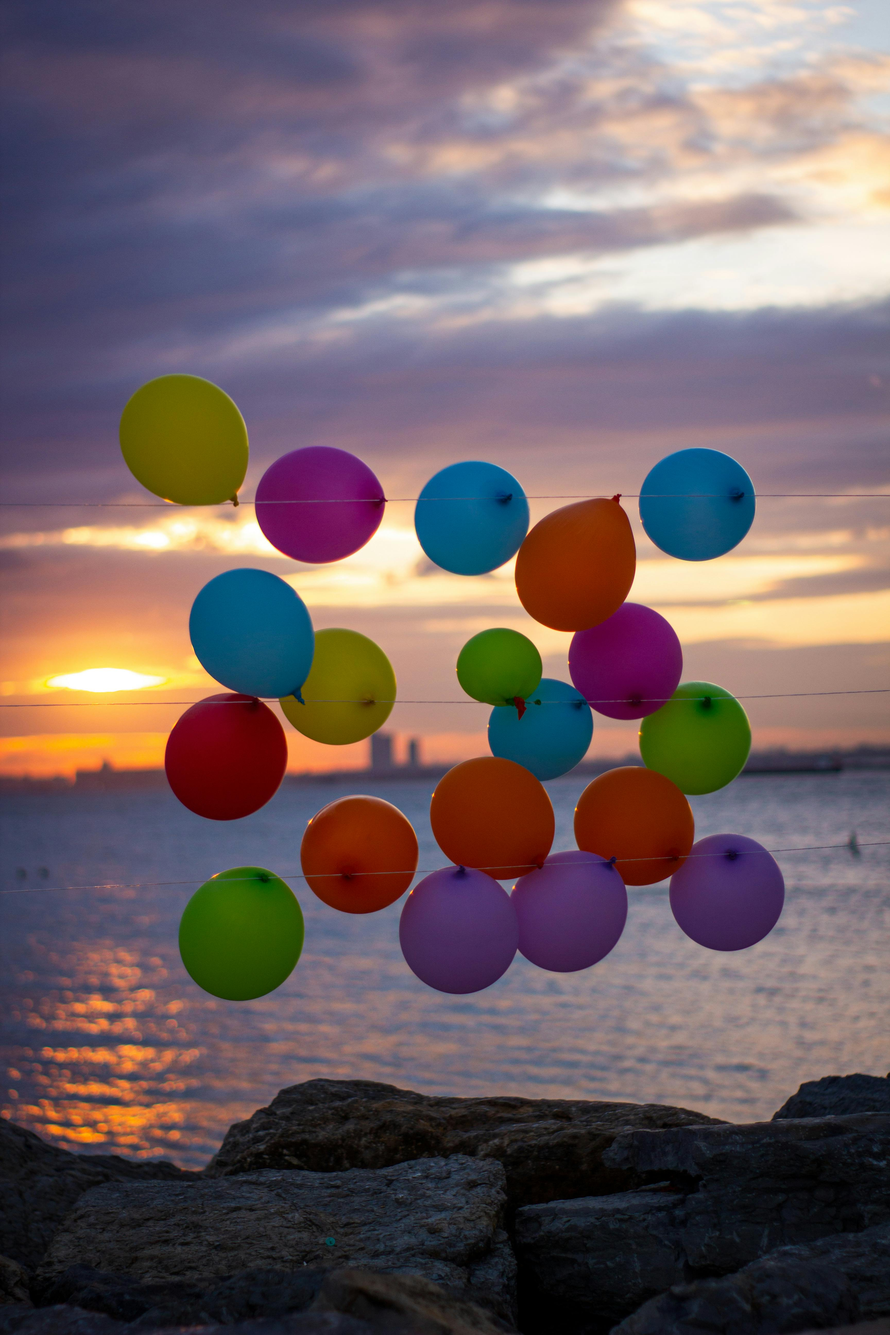balloon: (119, 375, 248, 505), (179, 867, 304, 1001), (515, 496, 636, 632), (189, 569, 314, 699), (402, 867, 520, 998), (165, 694, 287, 820), (431, 757, 554, 880), (255, 447, 385, 563), (574, 767, 694, 886), (511, 851, 627, 972), (301, 796, 418, 913), (280, 629, 396, 745), (670, 834, 784, 951), (569, 603, 682, 720), (639, 448, 755, 561), (415, 461, 529, 575), (639, 681, 751, 795), (491, 680, 594, 781), (457, 628, 542, 712)
